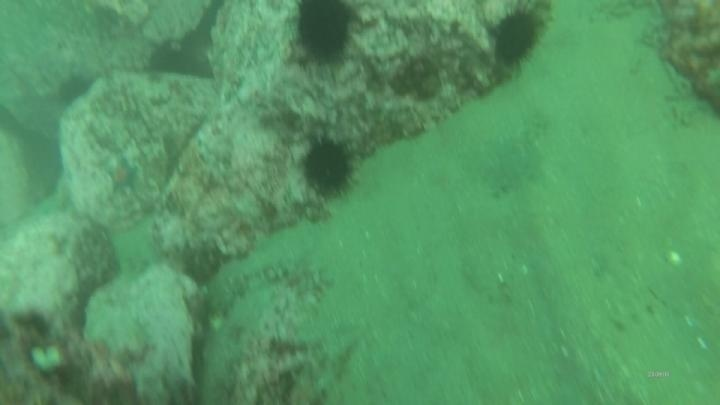echinus: (291, 1, 360, 68), (297, 133, 360, 200), (486, 4, 549, 71), (145, 38, 208, 81), (53, 71, 96, 109)
starfish: (101, 153, 143, 197)
